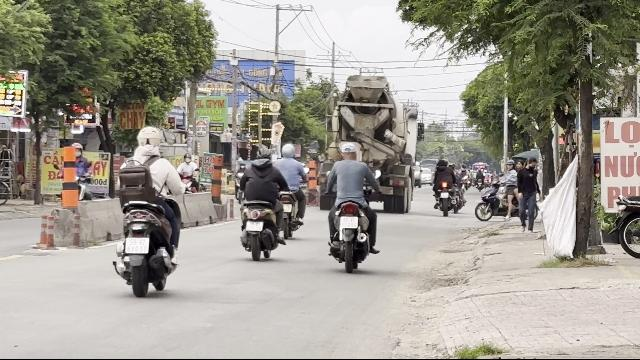helmet: (134, 125, 162, 151), (253, 144, 271, 162)
licenseplate: (124, 238, 148, 253), (340, 216, 358, 228), (246, 221, 264, 231)
motorcyclist: (110, 125, 184, 296), (323, 140, 381, 272), (236, 141, 284, 259)
nohelmet: (339, 140, 357, 160)
